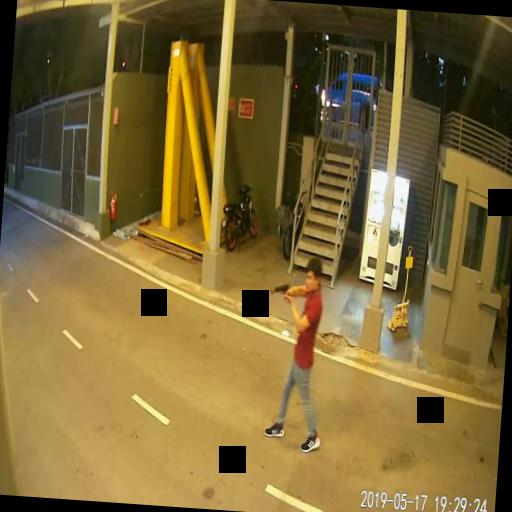Handgun: (273, 282, 290, 302)
